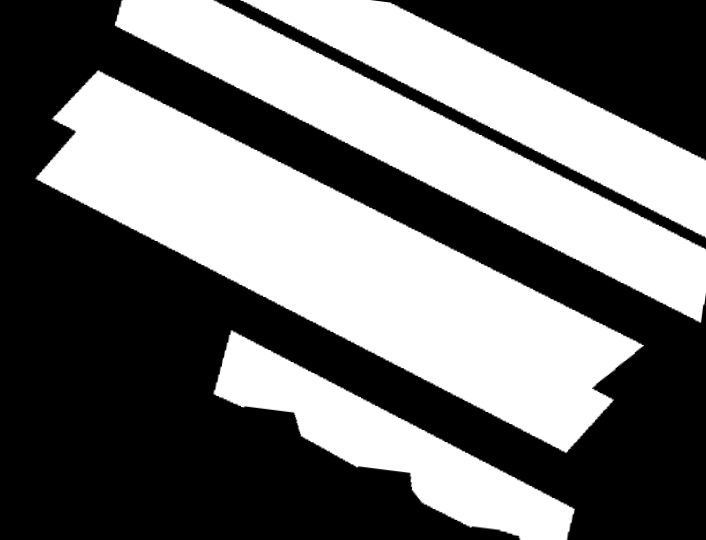parkingspot: (36, 70, 644, 453), (115, 0, 706, 323), (241, 0, 706, 238), (214, 330, 575, 540)
